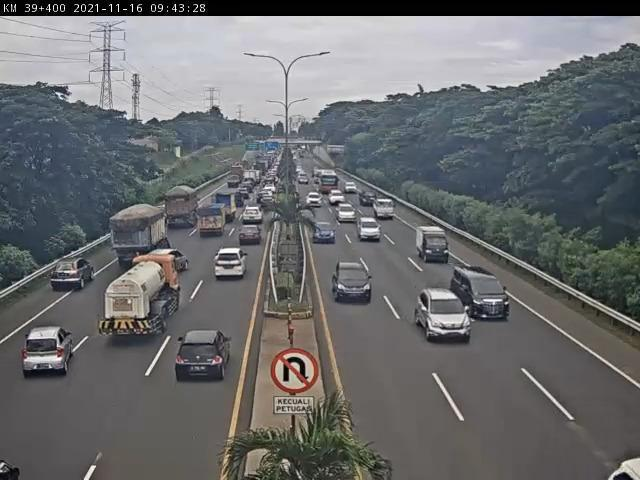bus: (322, 171, 334, 191)
car: (174, 327, 237, 385), (21, 320, 78, 382), (452, 266, 512, 324), (417, 287, 473, 345), (38, 252, 93, 303), (332, 263, 374, 308), (214, 243, 246, 283), (421, 233, 445, 259), (239, 228, 261, 250), (241, 208, 262, 226), (370, 197, 388, 214), (315, 223, 332, 240), (361, 223, 377, 241), (355, 187, 371, 204), (328, 188, 342, 203), (336, 203, 350, 217), (264, 195, 275, 212), (343, 183, 356, 196), (308, 191, 320, 204)
truck: (97, 249, 186, 339), (110, 206, 173, 269), (165, 185, 198, 230), (197, 202, 225, 241), (212, 192, 238, 223)
